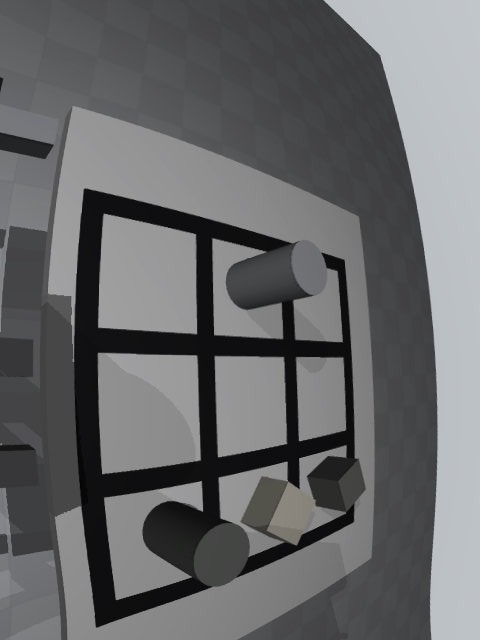can: (226, 240, 327, 310)
cube: (307, 456, 366, 512)
cylinder: (142, 501, 250, 587)
foam: (240, 476, 316, 546)
